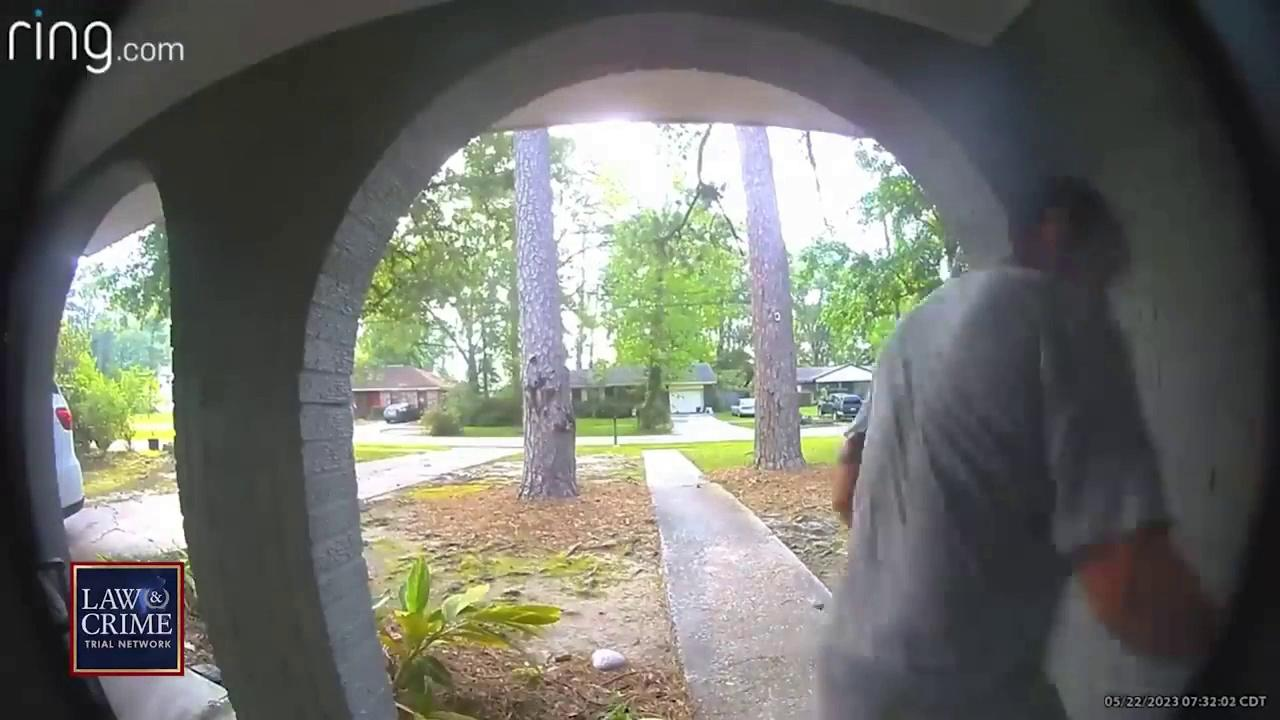suspicion: (854, 184, 1278, 720)
